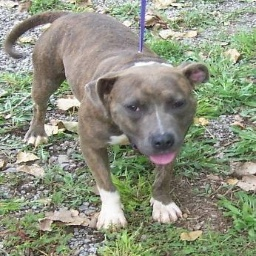dog: (5, 9, 209, 233)
